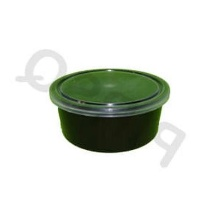plastic_box: (43, 61, 176, 158)
